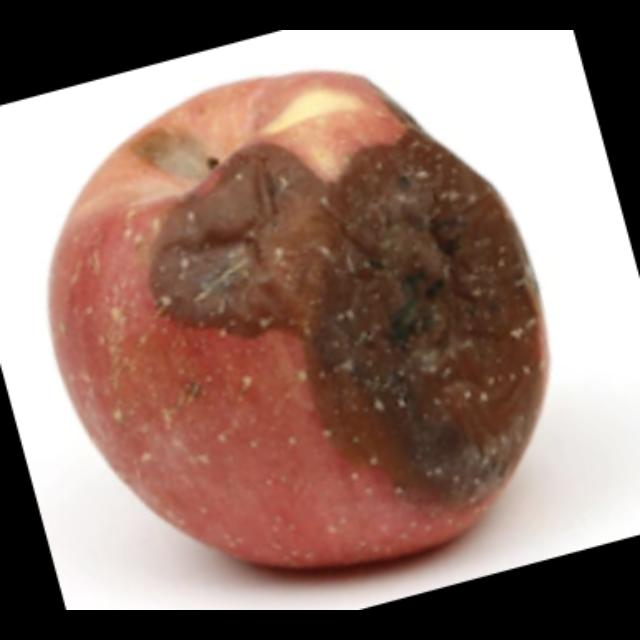Apel Tidak Segar: (43, 65, 553, 575)
